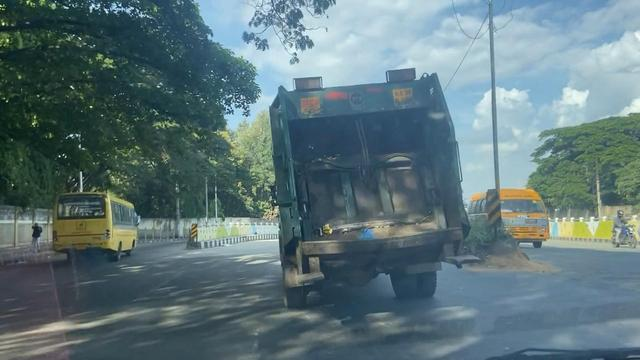HMV: (273, 76, 458, 310), (53, 195, 138, 267)
